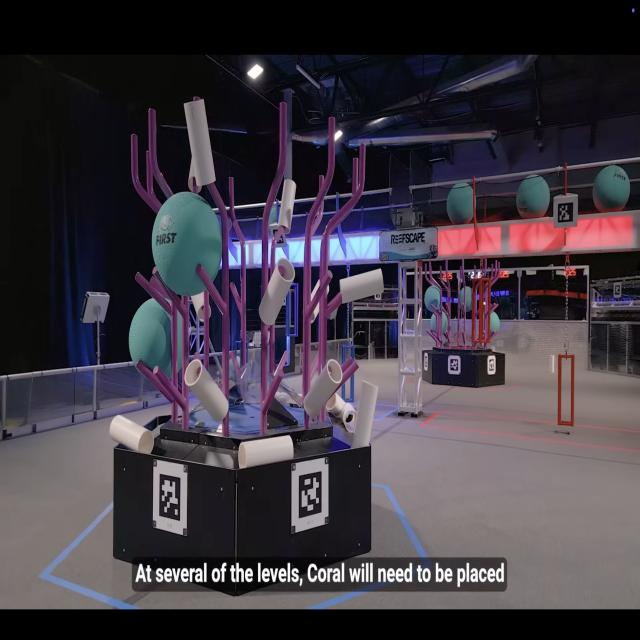algae: (150, 190, 228, 299), (126, 296, 193, 381), (587, 161, 633, 221), (513, 172, 560, 227), (446, 176, 478, 228), (428, 301, 449, 338), (454, 280, 478, 312), (422, 284, 446, 312), (482, 306, 501, 336)
coral: (179, 348, 234, 421), (183, 94, 226, 185), (230, 428, 298, 474), (258, 253, 296, 333), (300, 353, 343, 422), (349, 372, 381, 455), (337, 264, 397, 307), (106, 411, 162, 456), (277, 172, 298, 237), (309, 276, 332, 328), (191, 289, 216, 323), (325, 388, 347, 418), (341, 401, 358, 432), (548, 350, 556, 379)
